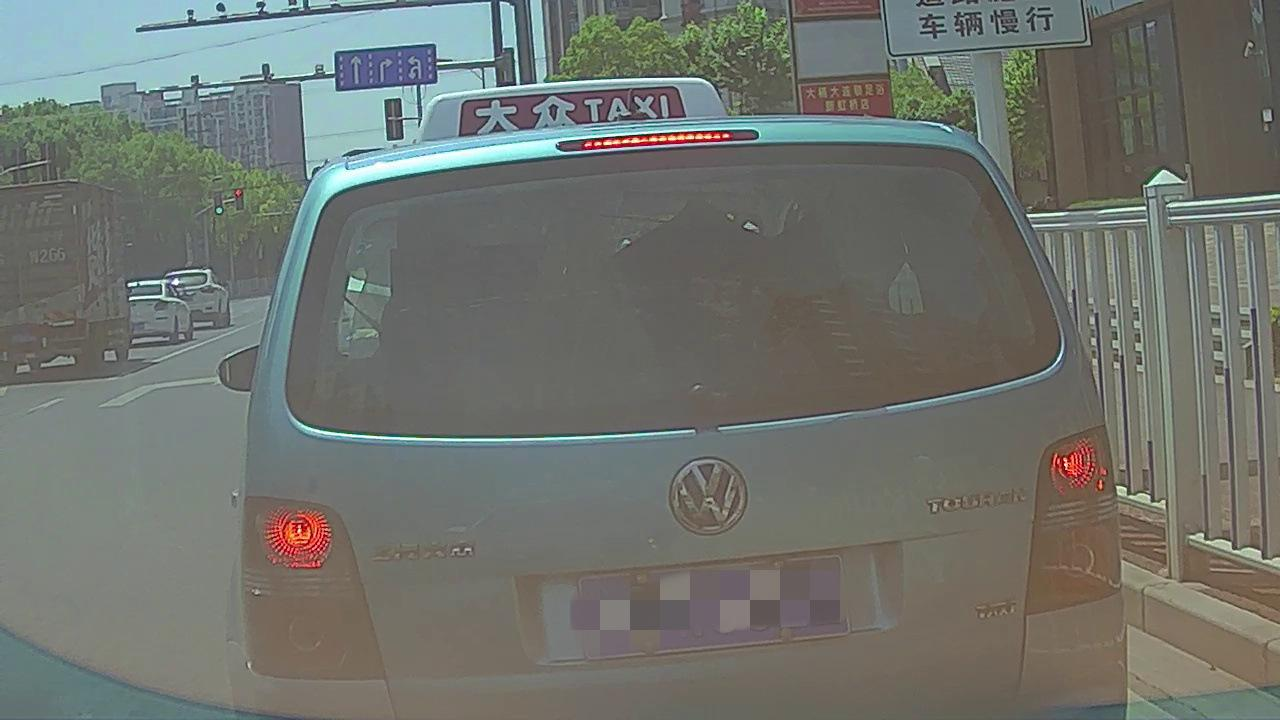traffic_light: (214, 192, 222, 214), (235, 189, 243, 210)
